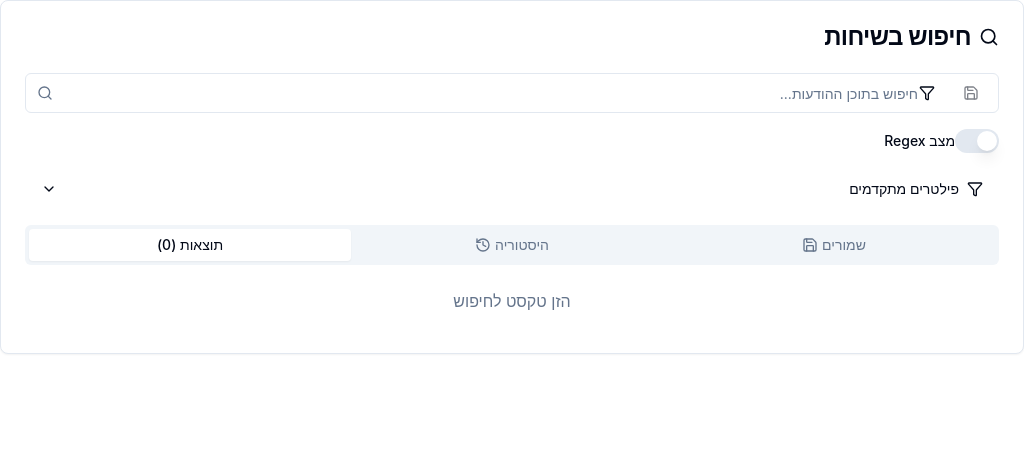
Scenario: SearchPanel › highlights search terms in results
Type "React" into the field with placeholder "חיפוש בתוכן ההודעות...".
click(512, 93); type("React")  # box [25, 73, 999, 113]
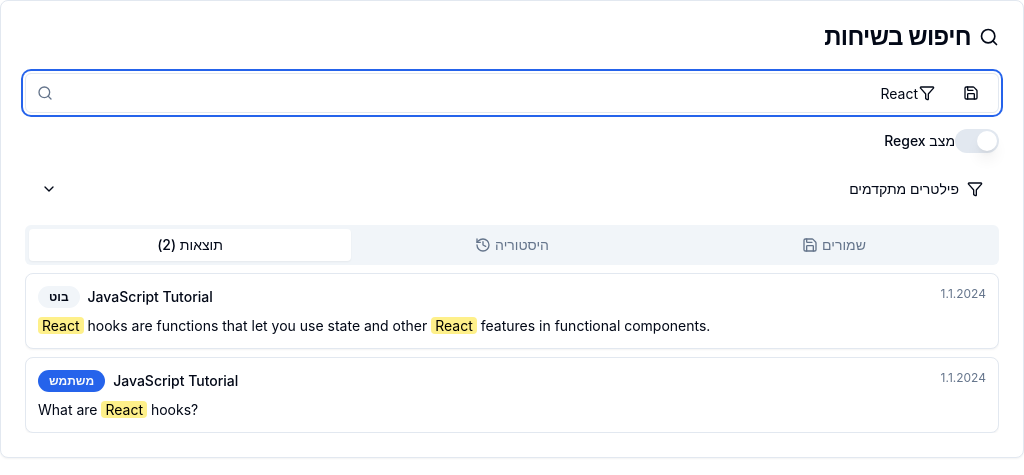
Now the 1st text "React" is shown, box [38, 317, 84, 334]
